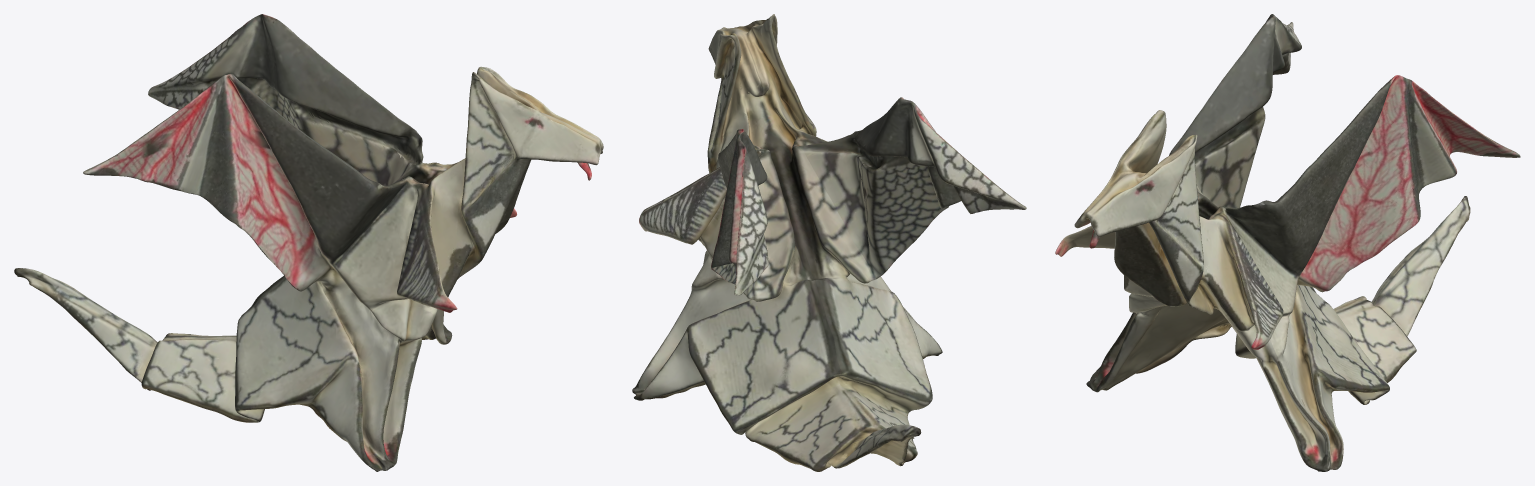
File: origami_dragon.glb
3 renders of one model, left to right at view 1: azimuth 30°, elevation 25°; view 2: azimuth 150°, elevation 25°; view 3: azimuth 270°, elevation 25°, orthographic.
Parts seen in each view (by area): view 1: Object_2; view 2: Object_2; view 3: Object_2.
Part boxes in pixels (x1,y1,x2,y2): Object_2: [14, 14, 603, 471]; Object_2: [632, 14, 1026, 471]; Object_2: [1055, 14, 1520, 471].
Size of the model in its own units: 1.98 by 1.55 by 1.93.
Materials: 1 (1 with a texture image).
